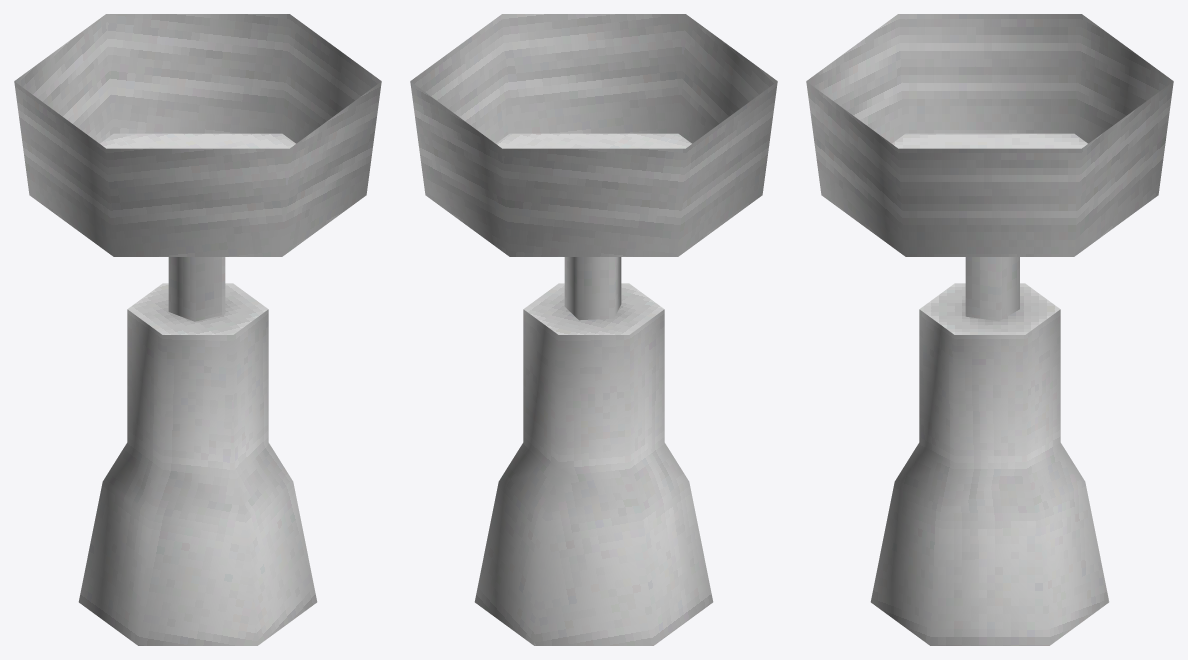
File: CeilingLamp.glb
3 renders of one model, left to right at view 1: azimuth 30°, elevation 25°; view 2: azimuth 150°, elevation 25°; view 3: azimuth 270°, elevation 25°, orthographic.
Parts seen in each view (by area): view 1: ceiling lamp base, ceiling lamp; view 2: ceiling lamp base, ceiling lamp; view 3: ceiling lamp base, ceiling lamp.
Boxes of the visible parts, x1,y1,x2,y2 form: ceiling lamp base: [14, 14, 381, 321]; ceiling lamp: [78, 283, 317, 645]; ceiling lamp base: [410, 14, 777, 320]; ceiling lamp: [474, 283, 713, 645]; ceiling lamp base: [806, 14, 1173, 321]; ceiling lamp: [870, 283, 1109, 645].
Size of the model in its own units: 0.1518 by 0.2743 by 0.1753.
Materials: 2 (2 with a texture image).
